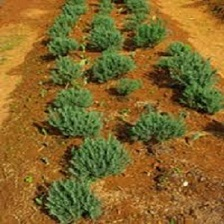clay_soil: (14, 22, 212, 198)
